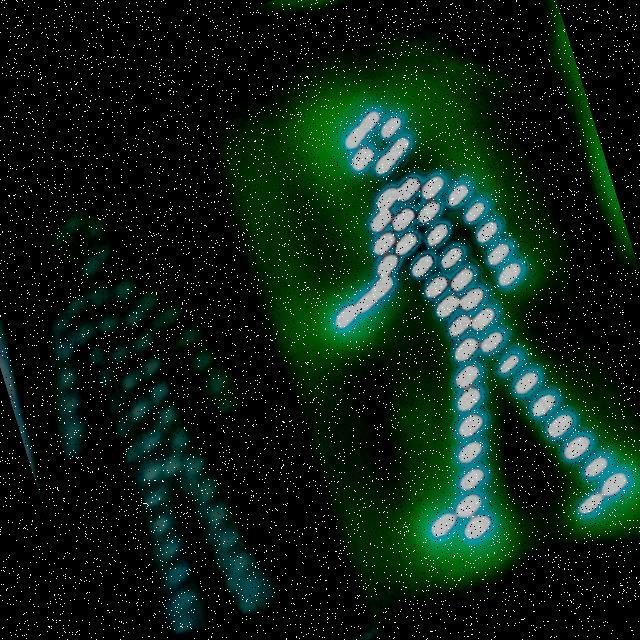green_light: (252, 47, 640, 585)
